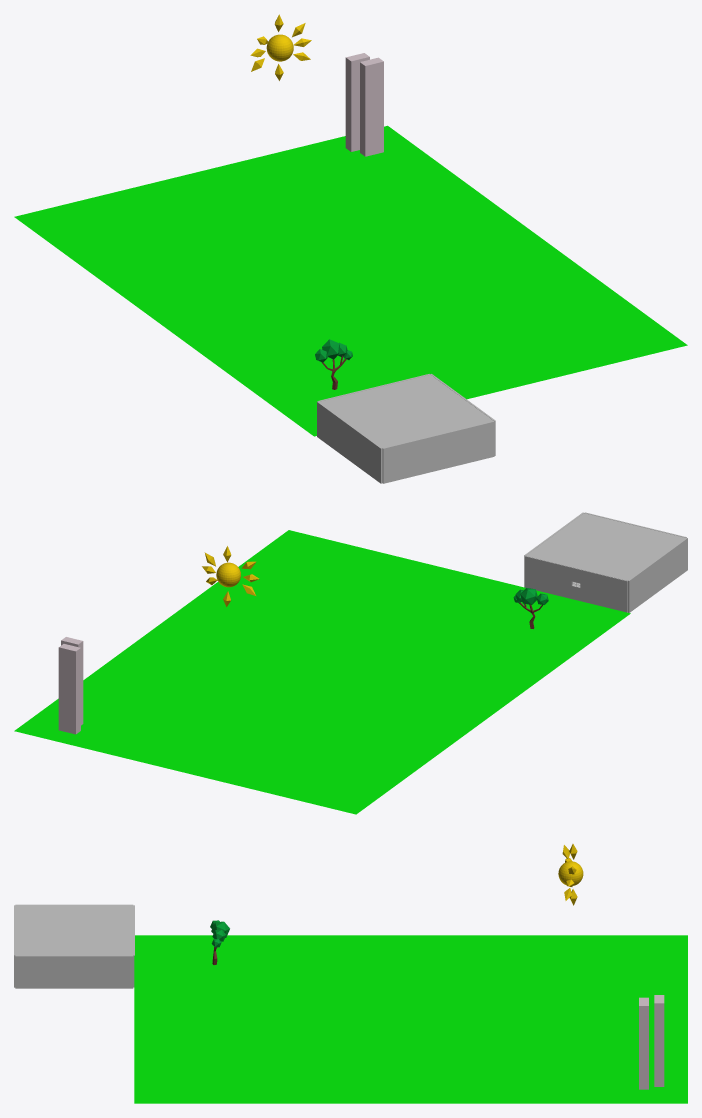
The model's file is labo.fbx.
3 views of the same model, one above another, from view 1: azimuth 30°, elevation 25°; view 2: azimuth 150°, elevation 25°; view 3: azimuth 270°, elevation 25° (orthographic). The views are drawn at different scales.
Visible parts, largest first — view 1: Gazon, plafond, mur4, mur1, Tour, Tour2; view 2: Gazon, plafond, mue3, mur1, Tour2, Soleil; view 3: Gazon, plafond, mur2, Tour2, Tour, Soleil.
Part boxes in pixels (left/top/right/bottom): Gazon: left=14, top=125, right=687, bottom=436; plafond: left=318, top=374, right=493, bottom=447; mur4: left=382, top=421, right=494, bottom=483; mur1: left=317, top=401, right=382, bottom=483; Tour: left=360, top=57, right=383, bottom=156; Tour2: left=345, top=53, right=369, bottom=151; Gazon: left=14, top=530, right=630, bottom=814; plafond: left=525, top=513, right=685, bottom=581; mue3: left=525, top=555, right=627, bottom=612; mur1: left=628, top=537, right=687, bottom=612; Tour2: left=58, top=644, right=80, bottom=734; Soleil: left=216, top=562, right=240, bottom=587; Gazon: left=134, top=935, right=687, bottom=1103; plafond: left=15, top=905, right=134, bottom=955; mur2: left=15, top=955, right=133, bottom=988; Tour2: left=654, top=995, right=664, bottom=1086; Tour: left=639, top=997, right=648, bottom=1089; Soleil: left=558, top=861, right=583, bottom=885.
Size of the model in its own units: 7955 by 4074 by 13468.
